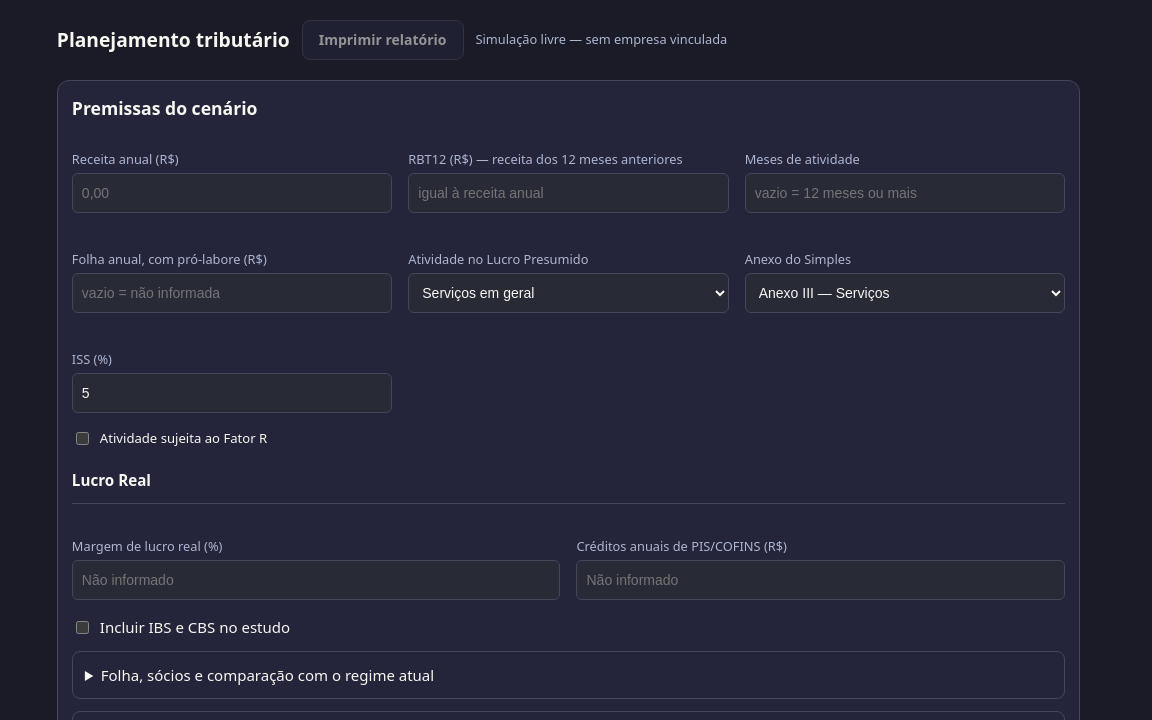
Test case: ⚠⚠ o campo de dinheiro na TELA — o ×100 não é mais escrevível › ⚠ e o valor cresce dígito a dígito, como campo de banco
In the field labelled "Receita anual (R$)": (232, 193) left=72, top=173, right=392, bottom=213, type "1"
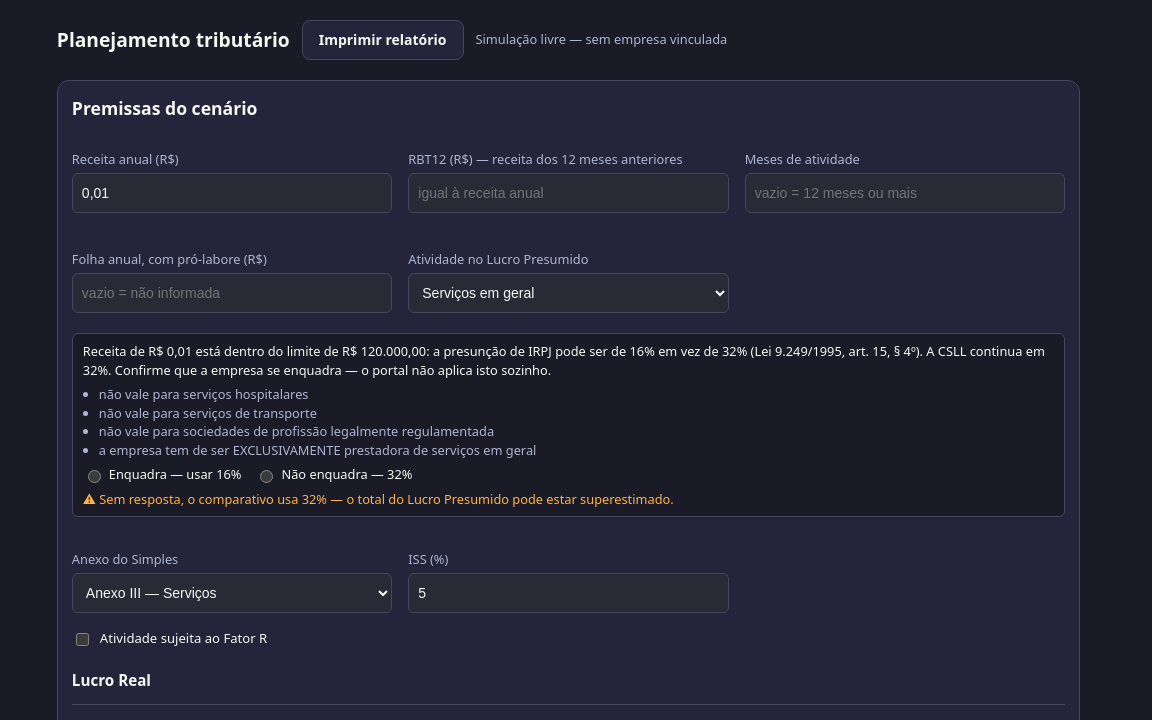
Expected: the field labelled "Receita anual (R$)" holds "0,01"
Replace the text in the field labelled "Receita anual (R$)" with "150000": (232, 193) left=72, top=173, right=392, bottom=213
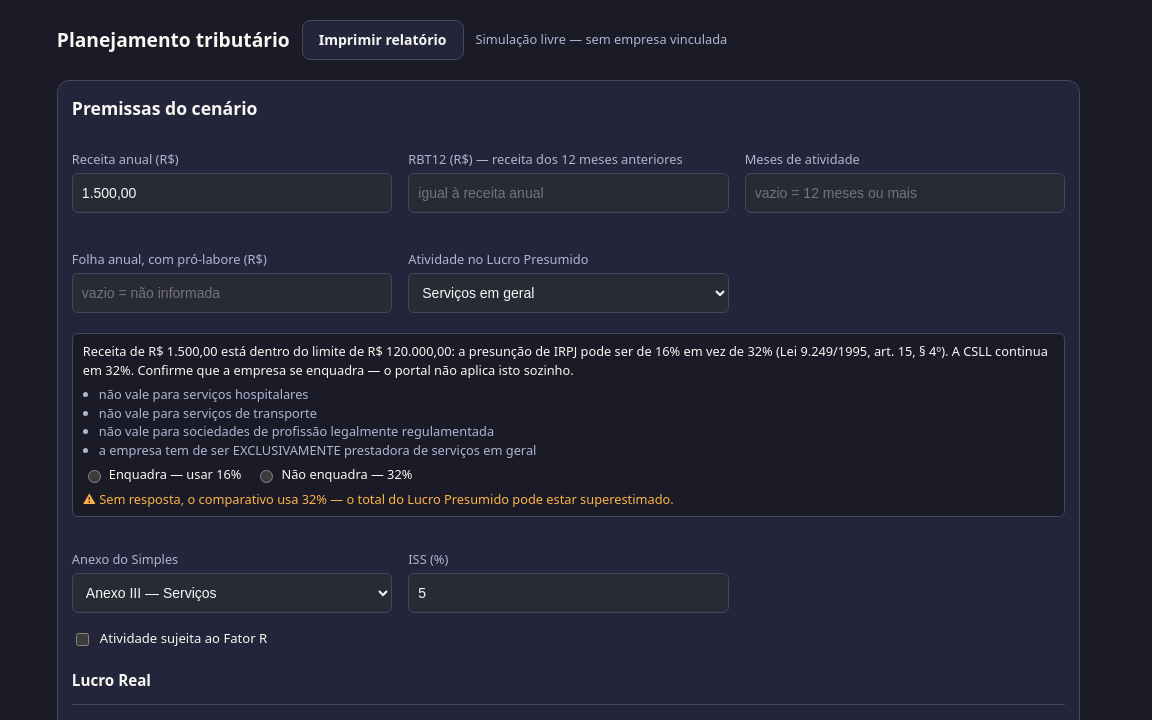
Expected: the field labelled "Receita anual (R$)" holds "1.500,00", left=72, top=173, right=392, bottom=213
